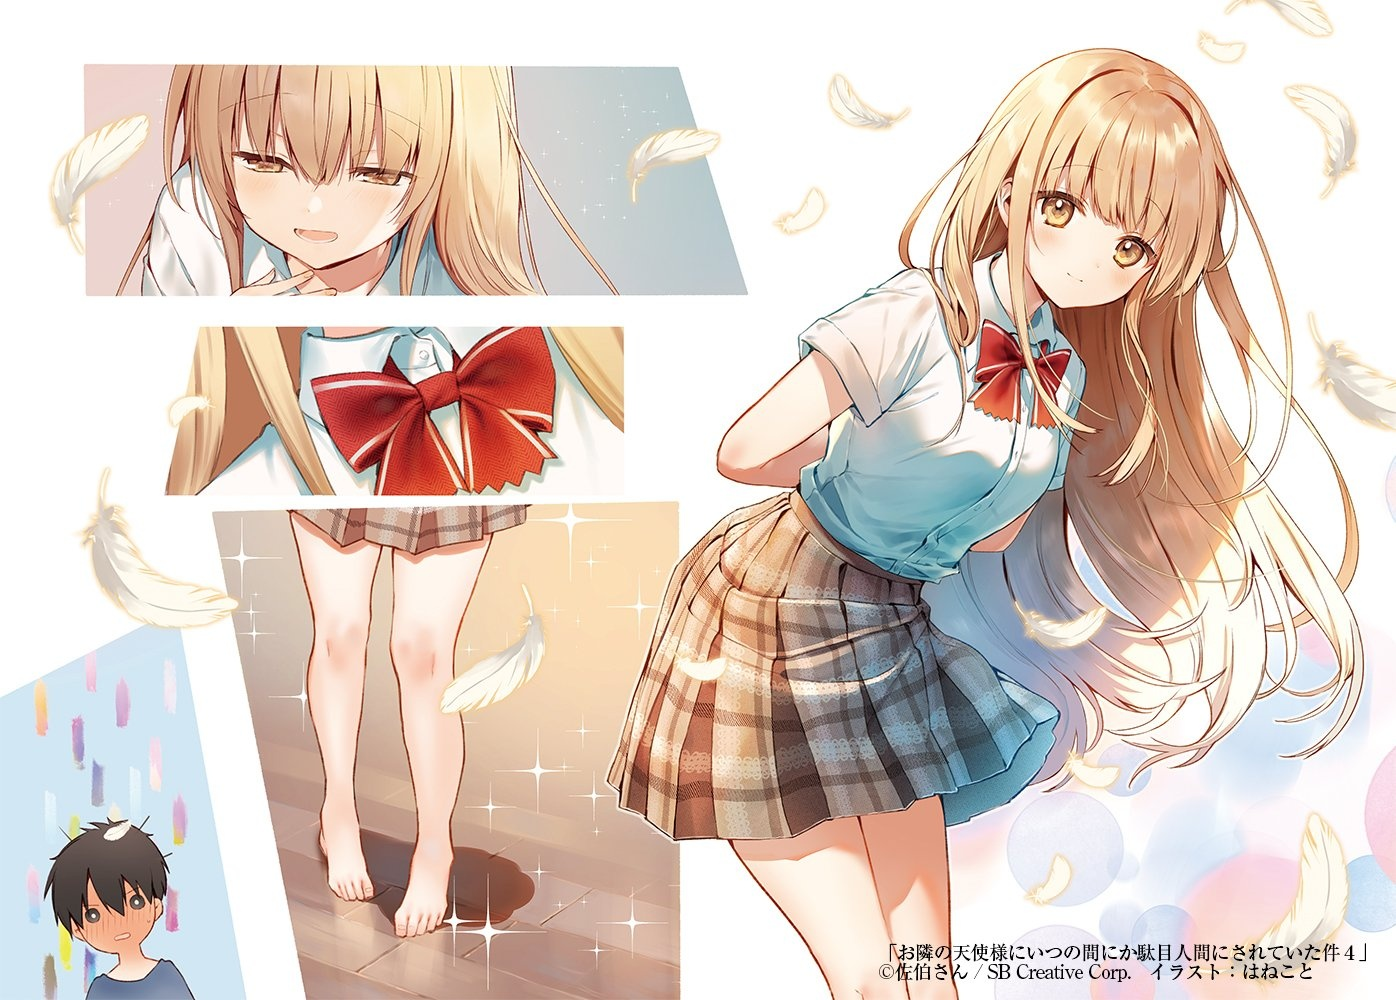纸片人正脸: (943, 41, 1247, 323), (189, 61, 454, 275)
